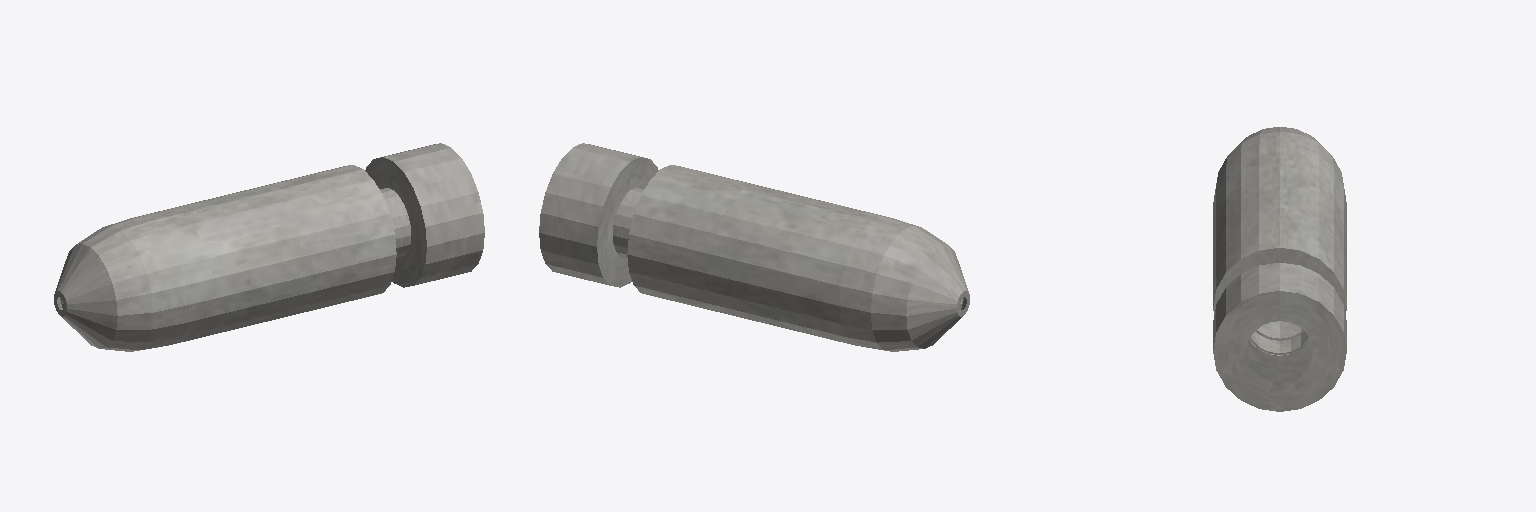
The picture shows the model from 3 angles: view 1: azimuth 30°, elevation 25°; view 2: azimuth 150°, elevation 25°; view 3: azimuth 270°, elevation 25°; orthographic projection.
Parts seen in each view (by area): view 1: pasted__pPipe1; view 2: pasted__pPipe1; view 3: pasted__pPipe1.
Boxes of the visible parts, x1,y1,x2,y2 form: pasted__pPipe1: [54, 143, 484, 351]; pasted__pPipe1: [539, 143, 969, 351]; pasted__pPipe1: [1213, 127, 1346, 411].
Size of the model in its own units: 16.95 by 5.03 by 5.03.
1 materials, 1 textured.